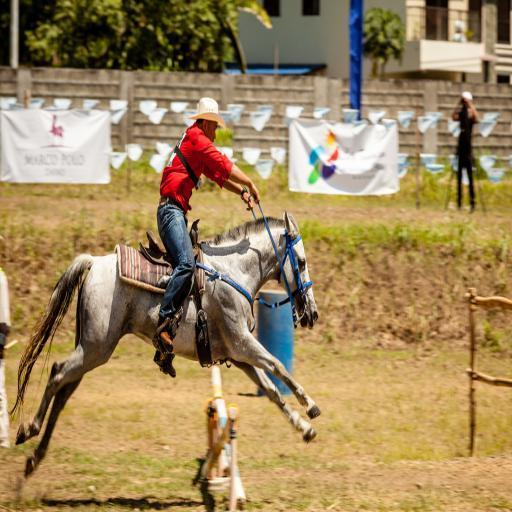horse: (8, 212, 318, 480)
